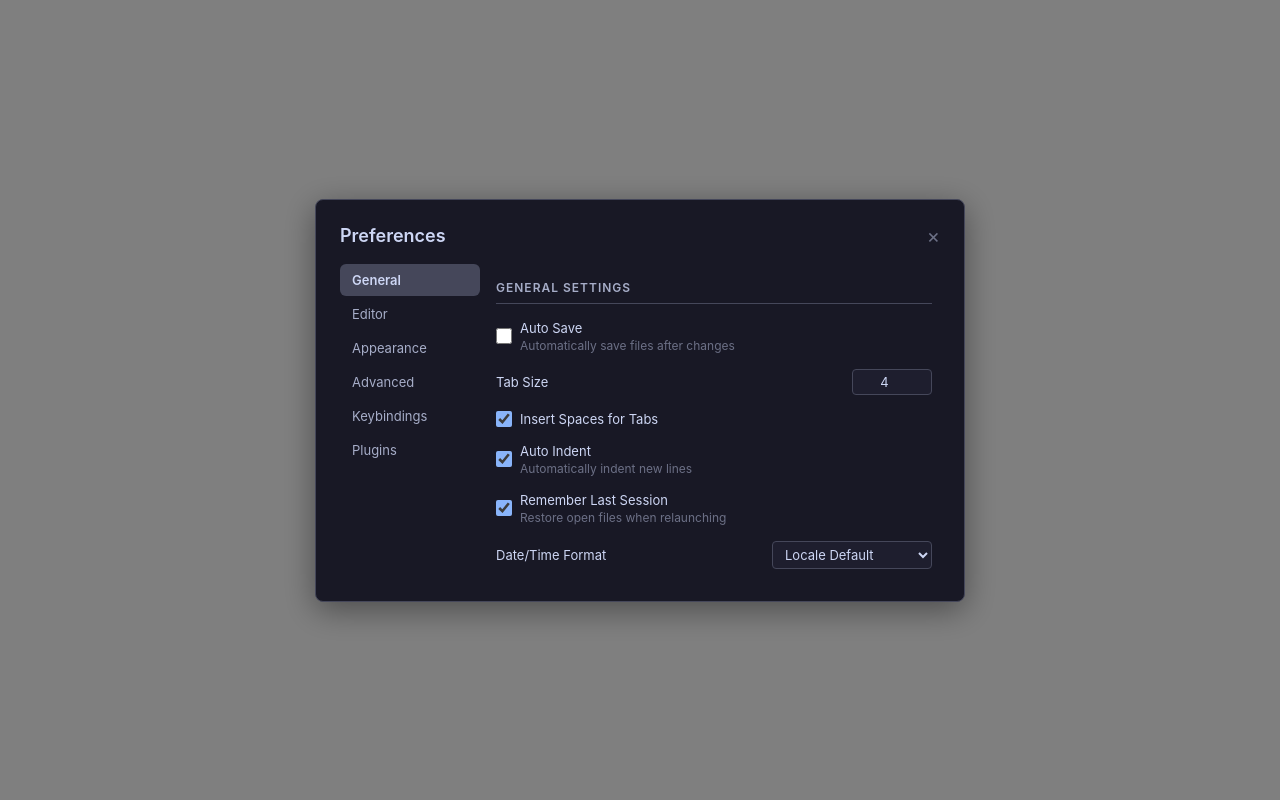
Scenario: SettingsDialogViewPresenter › navigates to Appearance section when Appearance tab is clicked
The width and height of the screenshot is (1280, 800).
Click the text "Appearance".
click(389, 348)  # box [352,340,427,356]
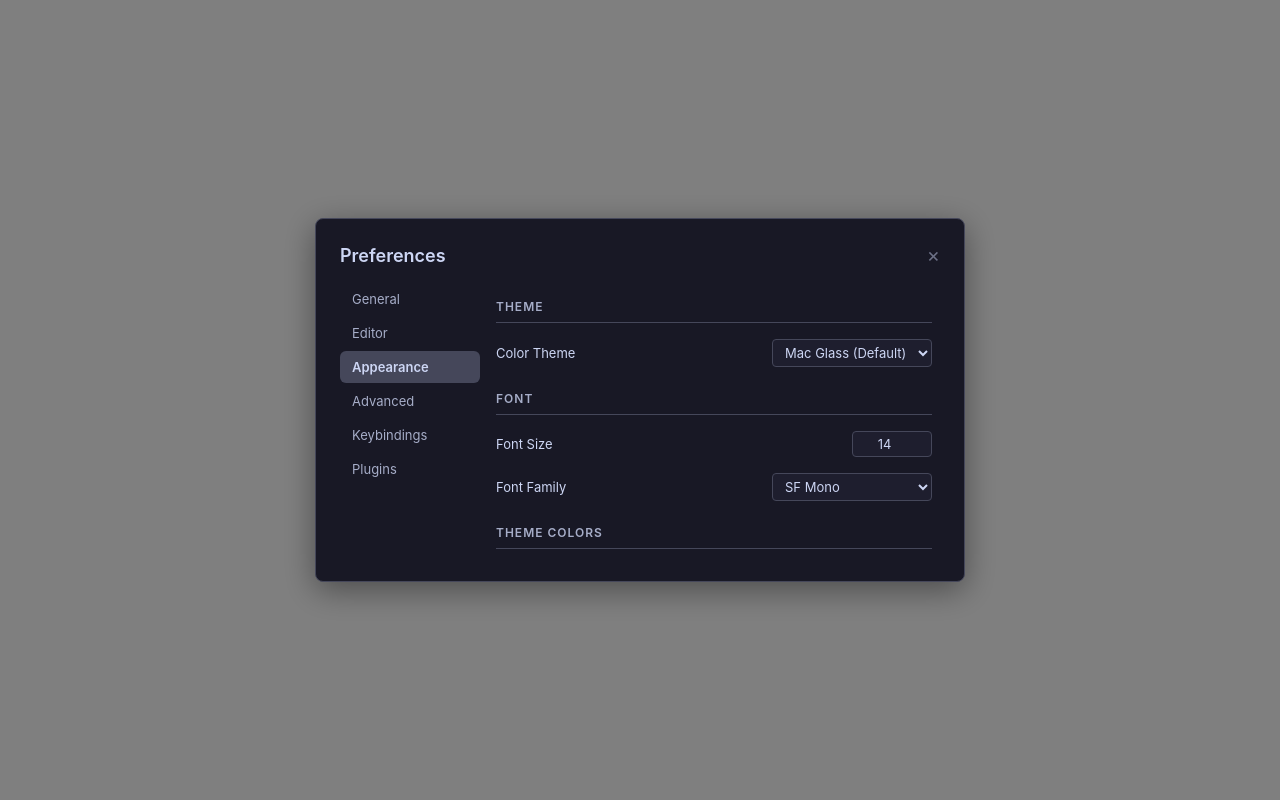
Check: the text "Color Theme" is shown, box [496,345,575,361]
